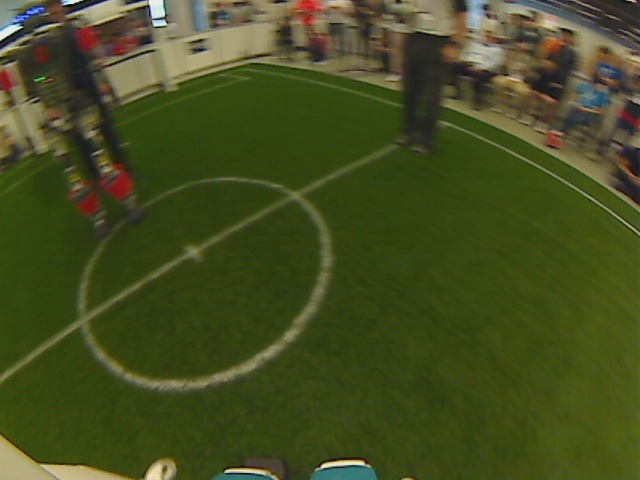goalpost: (18, 139, 64, 170), (157, 72, 188, 101)
robot: (68, 186, 149, 239)
